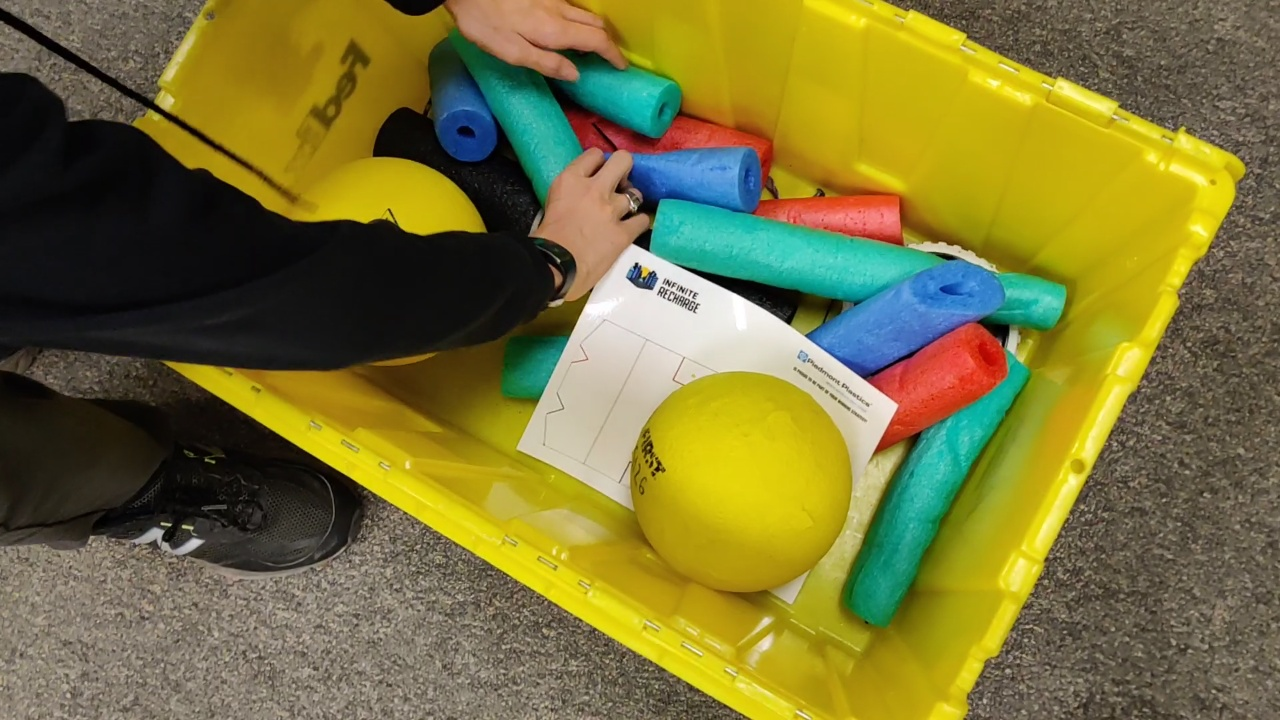Ball: (633, 372, 852, 593)
